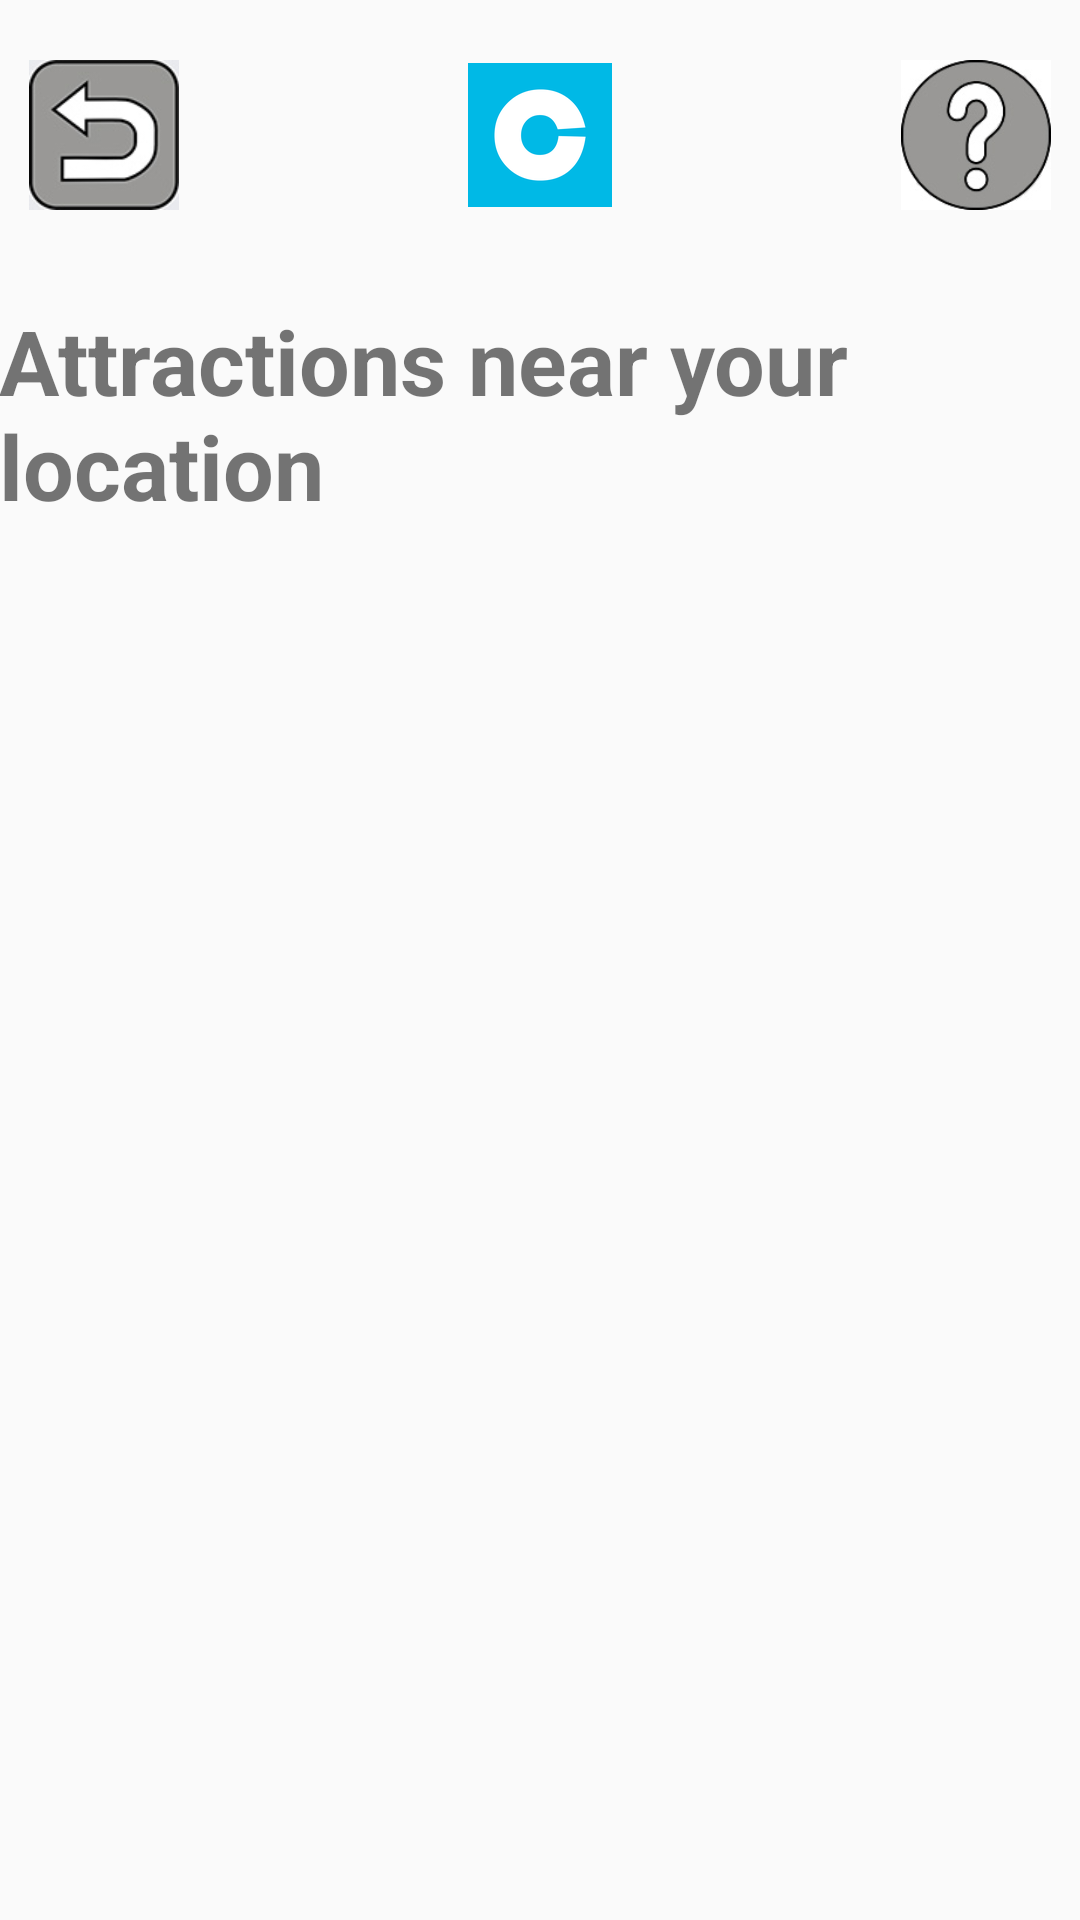

Named icons in this screenshot (1080 x 1920) and their bounding boxes, region(x1, y1, x2, y2):
backbtn: region(29, 60, 179, 210)
helpbtn: region(901, 60, 1051, 210)
